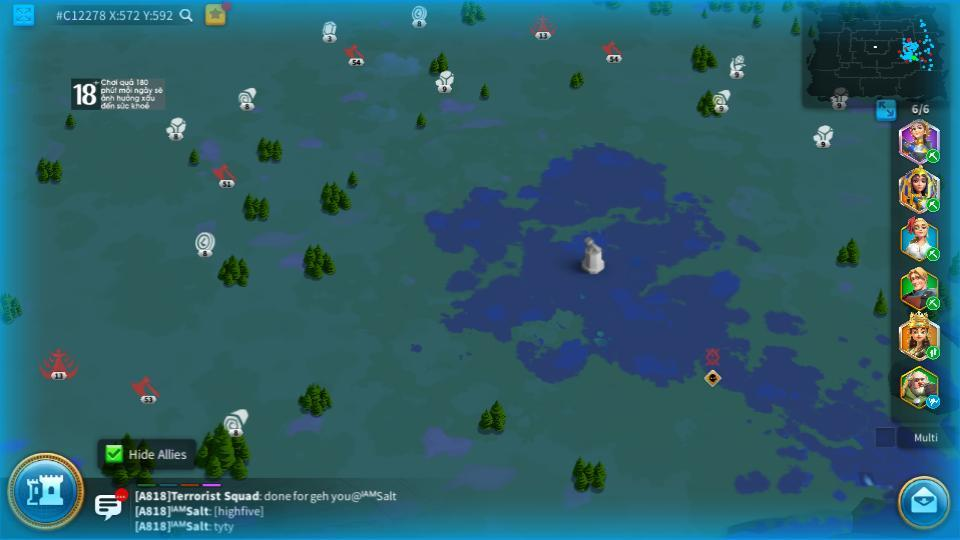gem-z-out: (320, 20, 338, 41)
march_farming: (923, 197, 939, 212)
march_idle: (925, 396, 942, 408)
march_marching: (924, 149, 939, 162), (925, 347, 941, 359)
